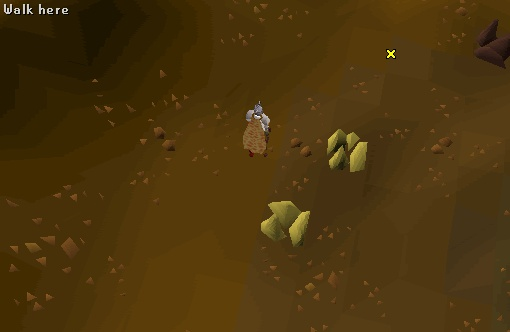gold: (253, 193, 321, 254), (319, 122, 375, 182)
